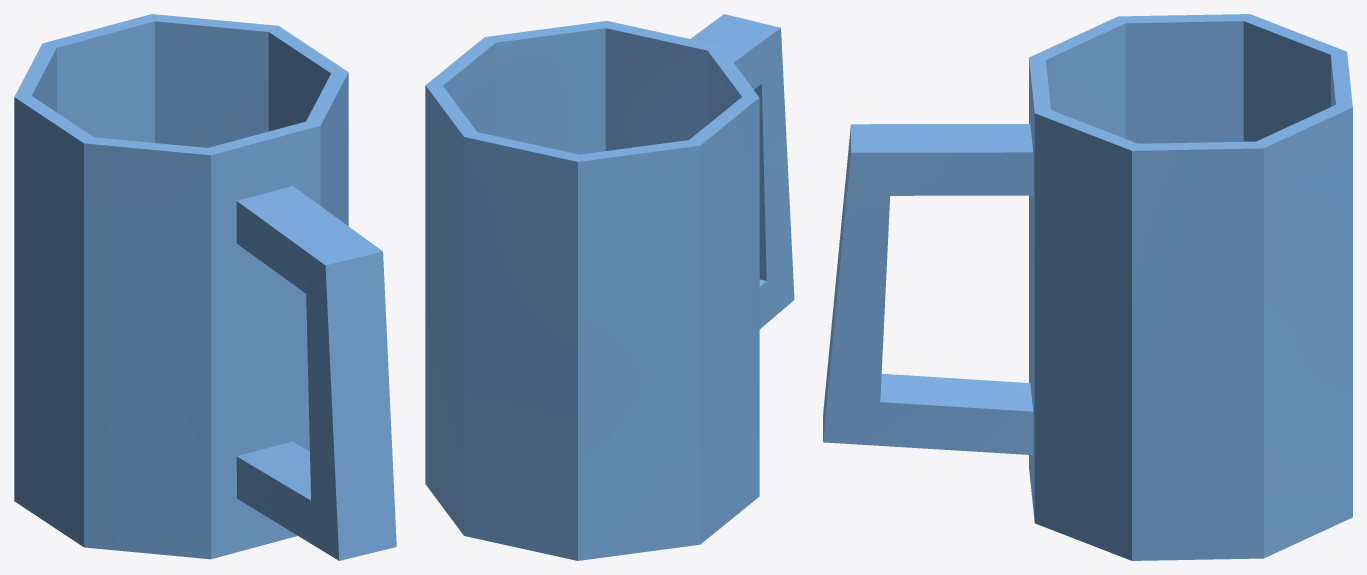
The model's file is Cup_1.fbx.
3 renders of one model, left to right at view 1: azimuth 30°, elevation 25°; view 2: azimuth 150°, elevation 25°; view 3: azimuth 270°, elevation 25°, orthographic. The views are drawn at different scales.
Parts seen in each view (by area): view 1: Cup_1; view 2: Cup_1; view 3: Cup_1.
Part boxes in pixels (x1,y1,x2,y2): Cup_1: (14, 14, 396, 560); Cup_1: (425, 14, 794, 560); Cup_1: (823, 14, 1352, 560).
Size of the model in its own units: 4.15 by 5.79 by 6.78.
